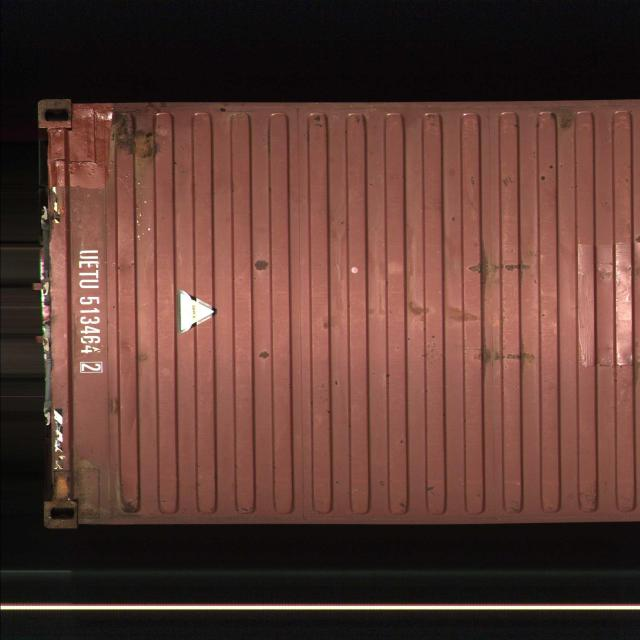rust: (108, 102, 168, 165)
